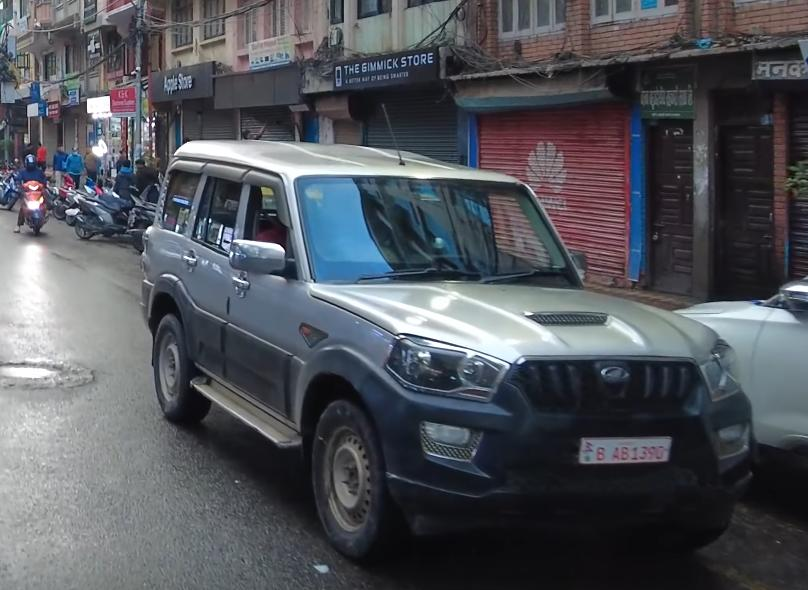SUV: (138, 131, 778, 578)
scooter: (17, 170, 52, 236)
